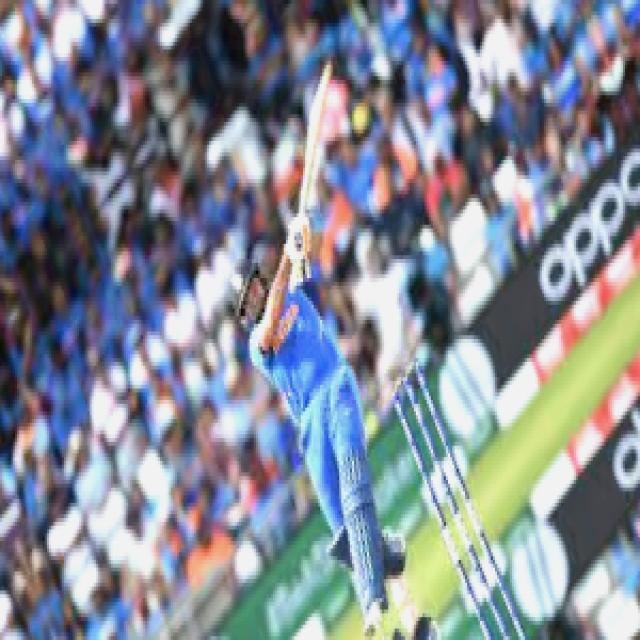toe: (319, 58, 334, 90)
